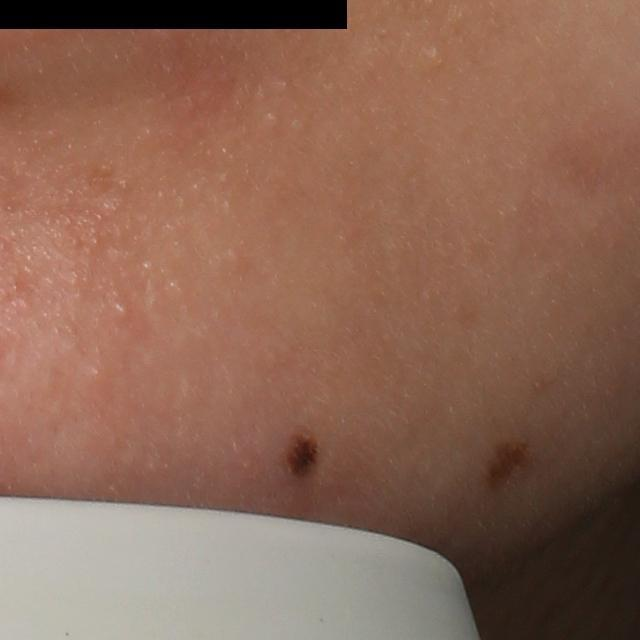comedo: (427, 45, 449, 72), (113, 303, 132, 323)
nevus: (484, 433, 535, 503), (286, 430, 321, 481)
